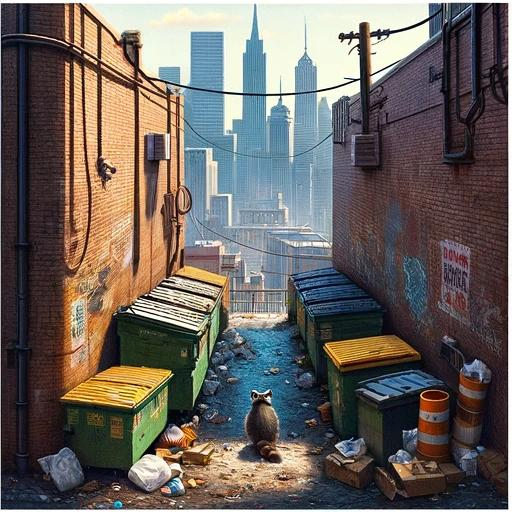raccoon: (240, 383, 287, 466)
